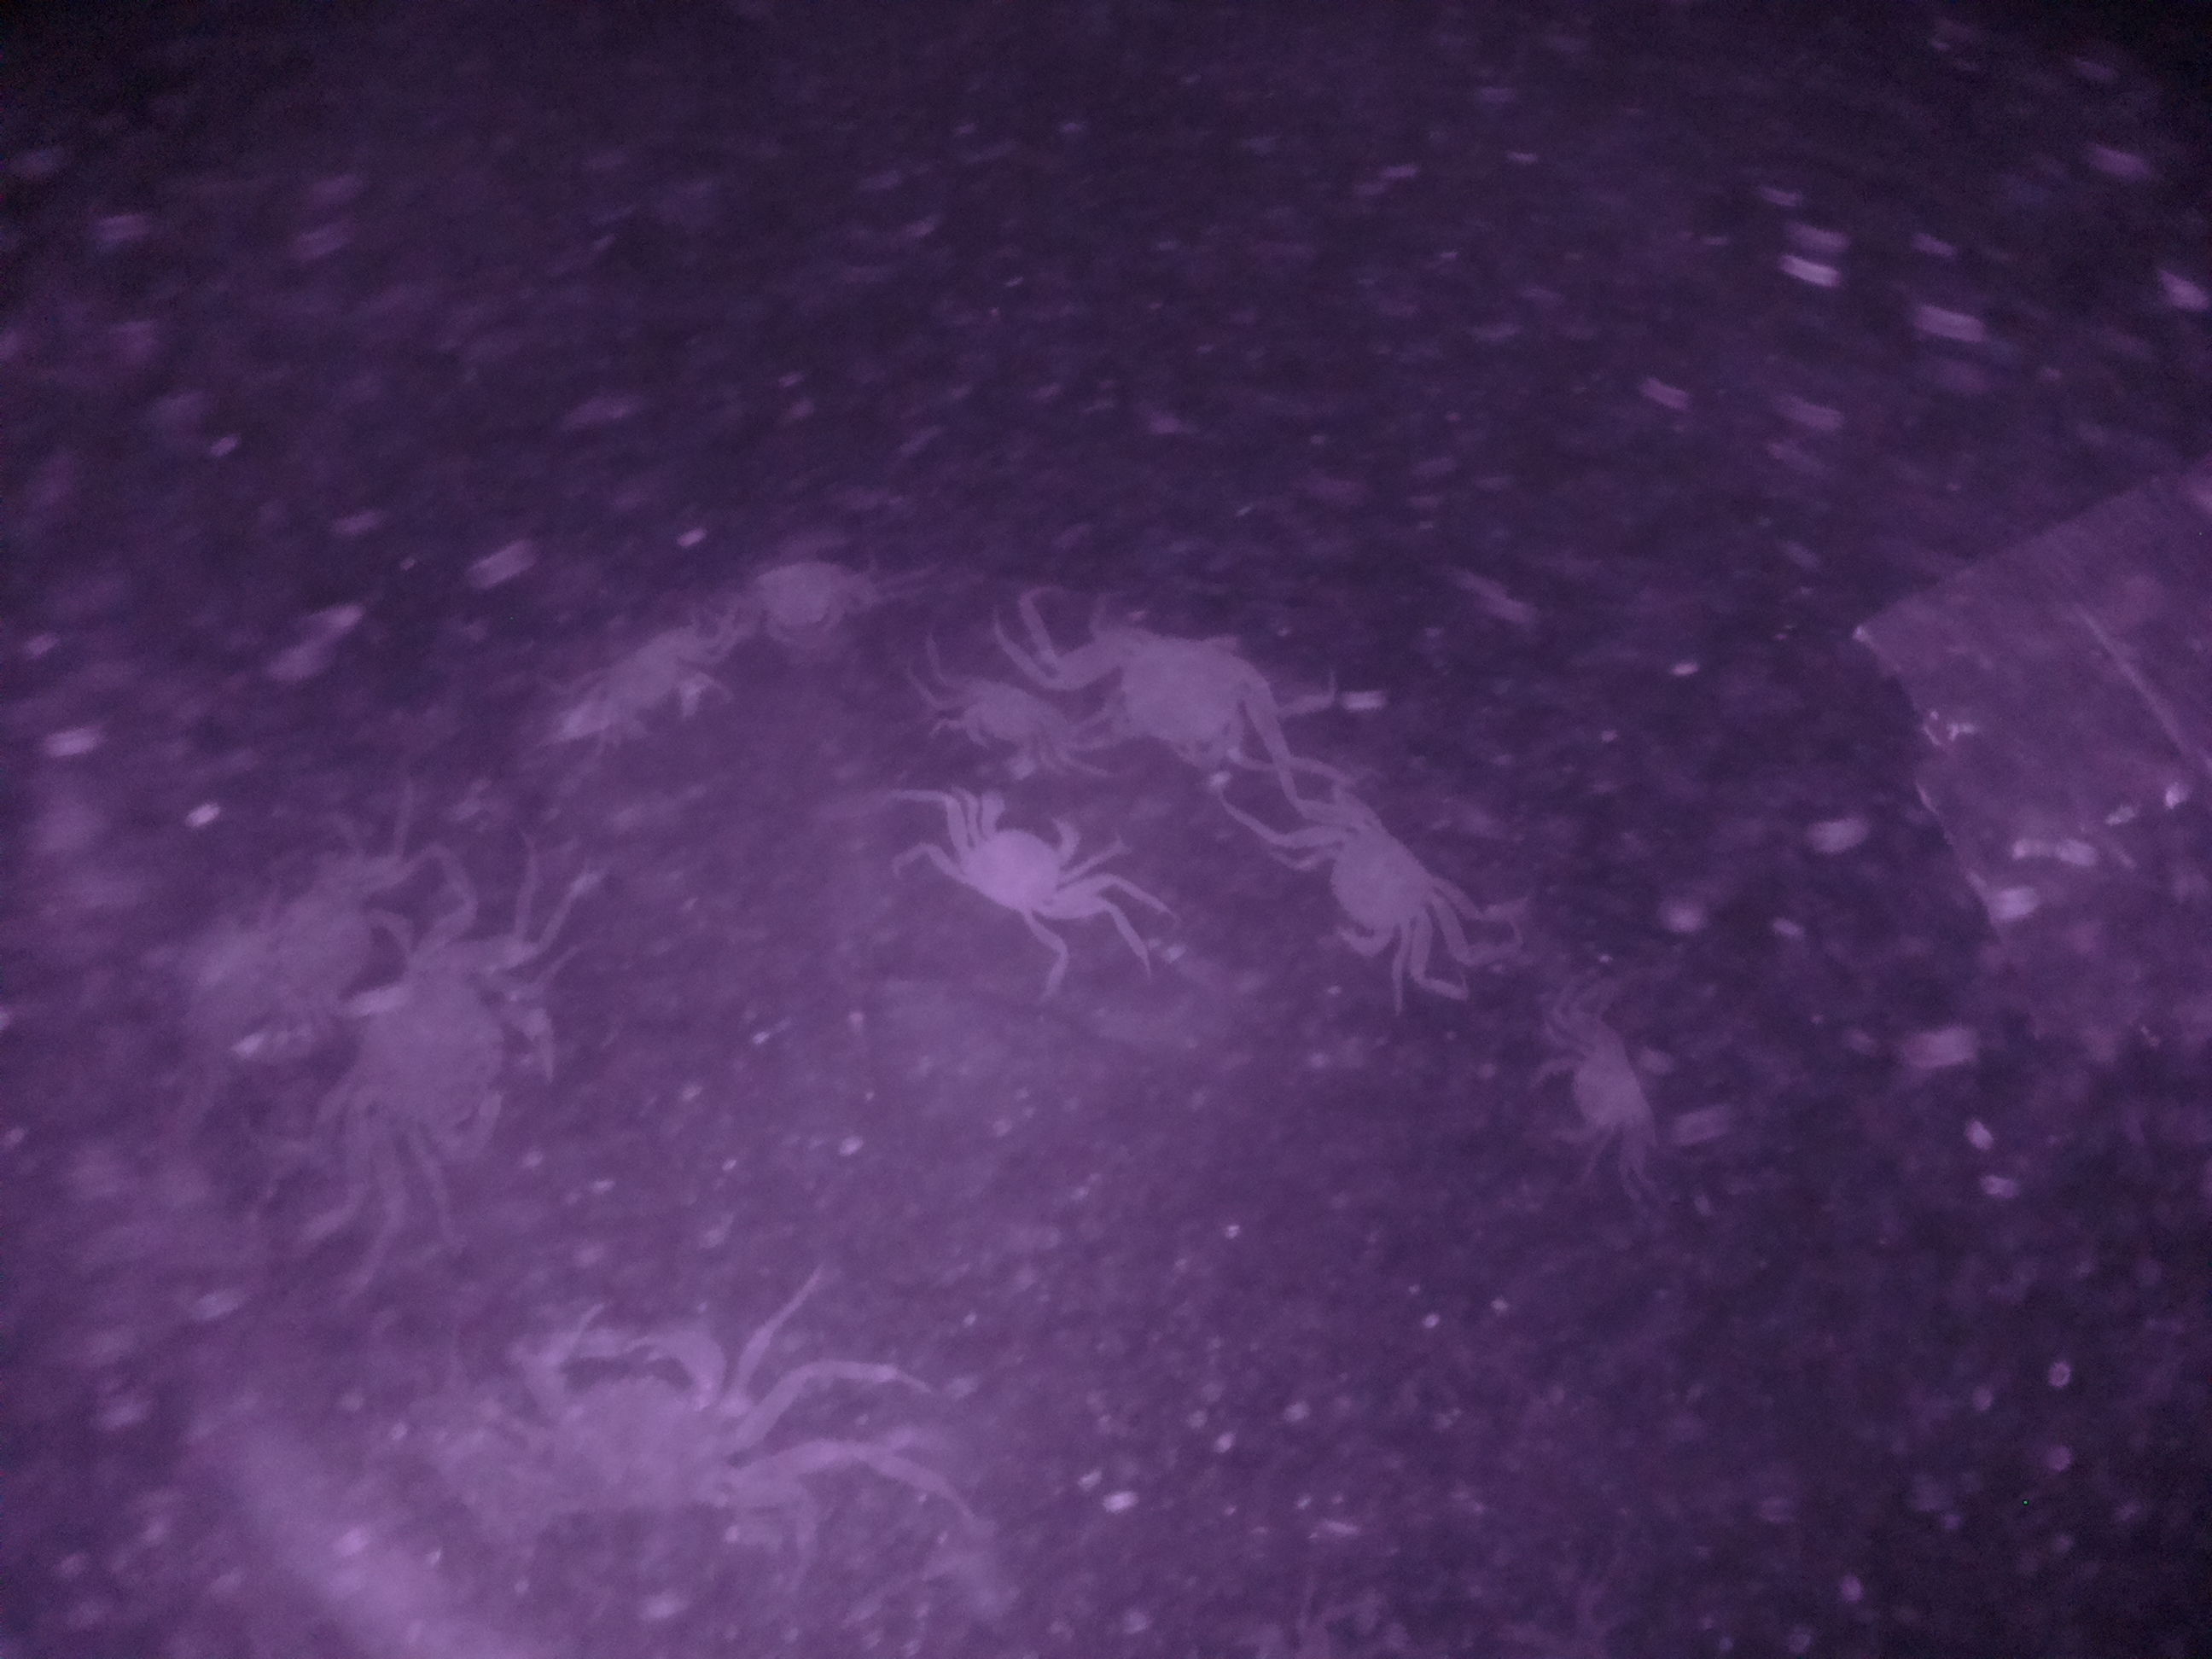Crab: (1277, 755, 1475, 988), (916, 767, 1129, 958), (920, 652, 1087, 782)
